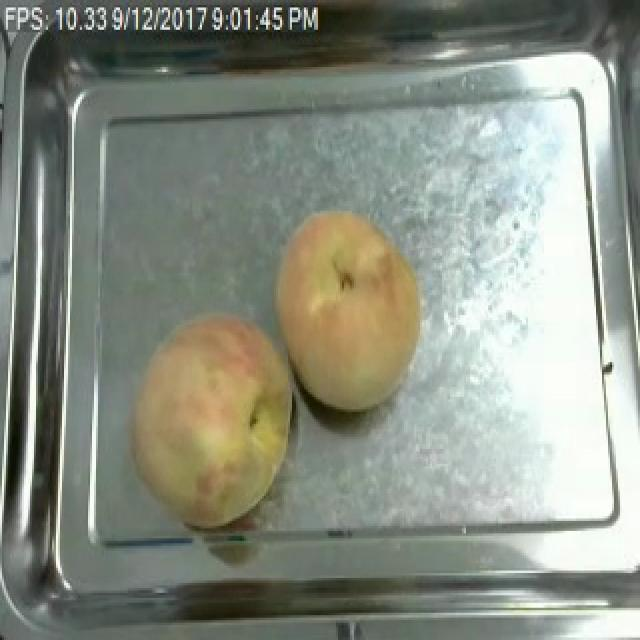Fruit: (118, 305, 300, 531), (266, 201, 434, 417)
